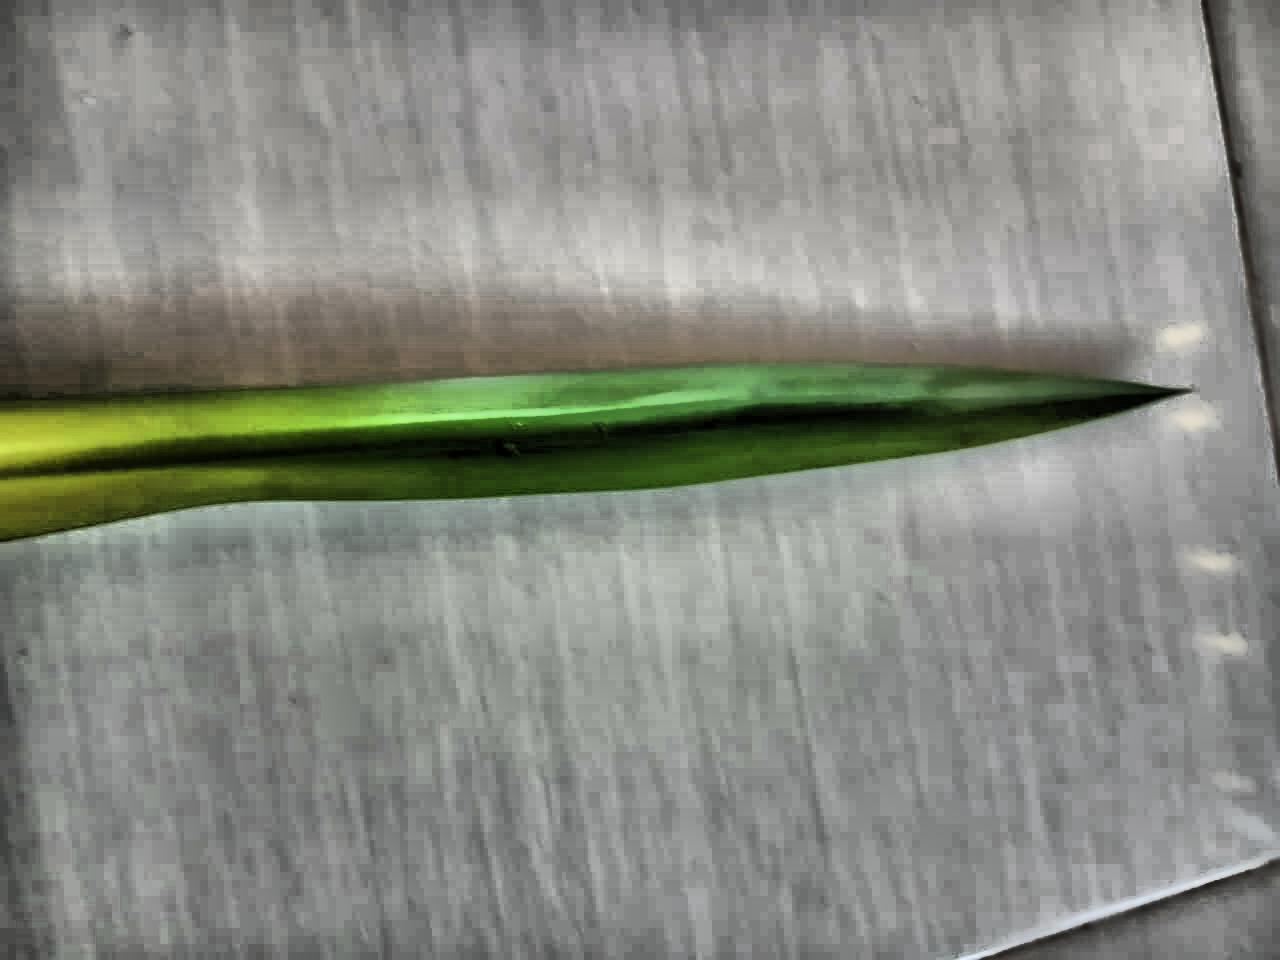daun pandan: (0, 363, 1183, 541)
